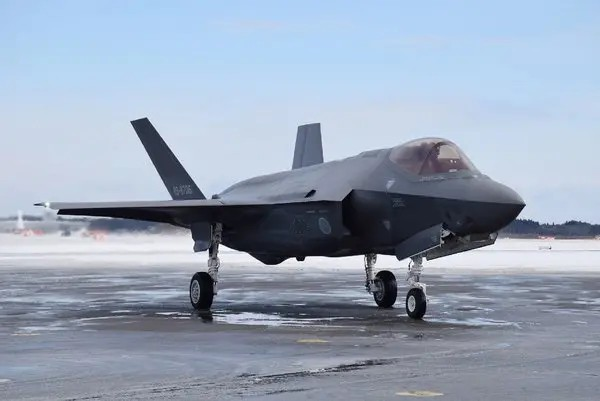F-35 Lightning: (29, 110, 530, 328)
